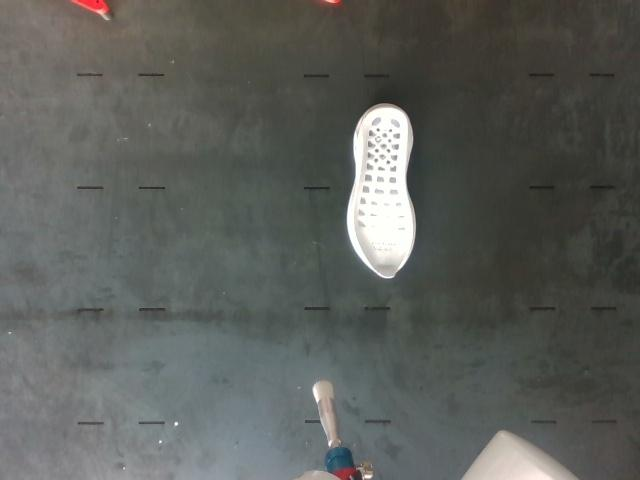shoes: (354, 108, 413, 277)
